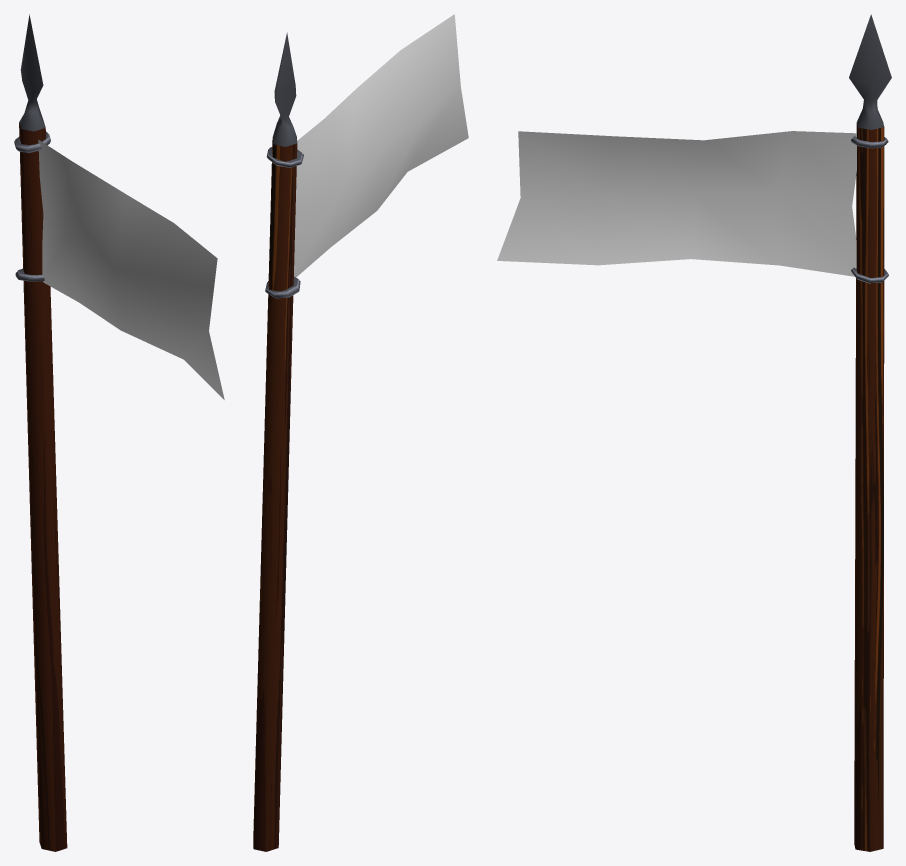
File: SM_PROP_flag_05.fbx
The picture shows the model from 3 angles, left to right: view 1: azimuth 30°, elevation 25°; view 2: azimuth 150°, elevation 25°; view 3: azimuth 270°, elevation 25°; orthographic projection.
Visible parts, largest first — view 1: SM_PROP_flag_05; view 2: SM_PROP_flag_05; view 3: SM_PROP_flag_05.
Boxes of the visible parts, x1,y1,x2,y2 form: SM_PROP_flag_05: (14,14,224,851); SM_PROP_flag_05: (253,14,468,851); SM_PROP_flag_05: (497,14,891,851).
Bounding box in the file's own units: 40.65 × 656 × 286.
